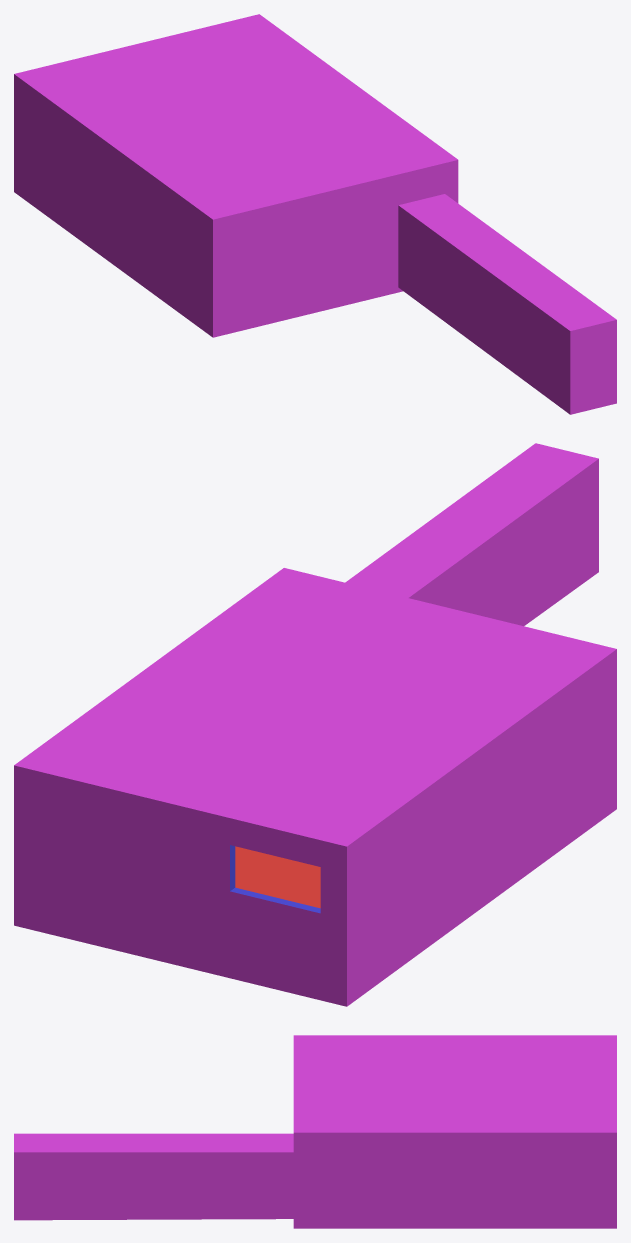
The model's file is room.fbx.
The picture shows the model from 3 angles, top to bottom: view 1: azimuth 30°, elevation 25°; view 2: azimuth 150°, elevation 25°; view 3: azimuth 270°, elevation 25°; orthographic projection. The views are drawn at different scales.
Visible parts, largest first — view 1: room; view 2: room; view 3: room.
Part boxes in pixels (left/top/right/bottom): room: left=14, top=14, right=616, bottom=414; room: left=14, top=443, right=616, bottom=1006; room: left=14, top=1035, right=616, bottom=1228.
Bounding box in the file's own units: 741 × 341 × 1940.
